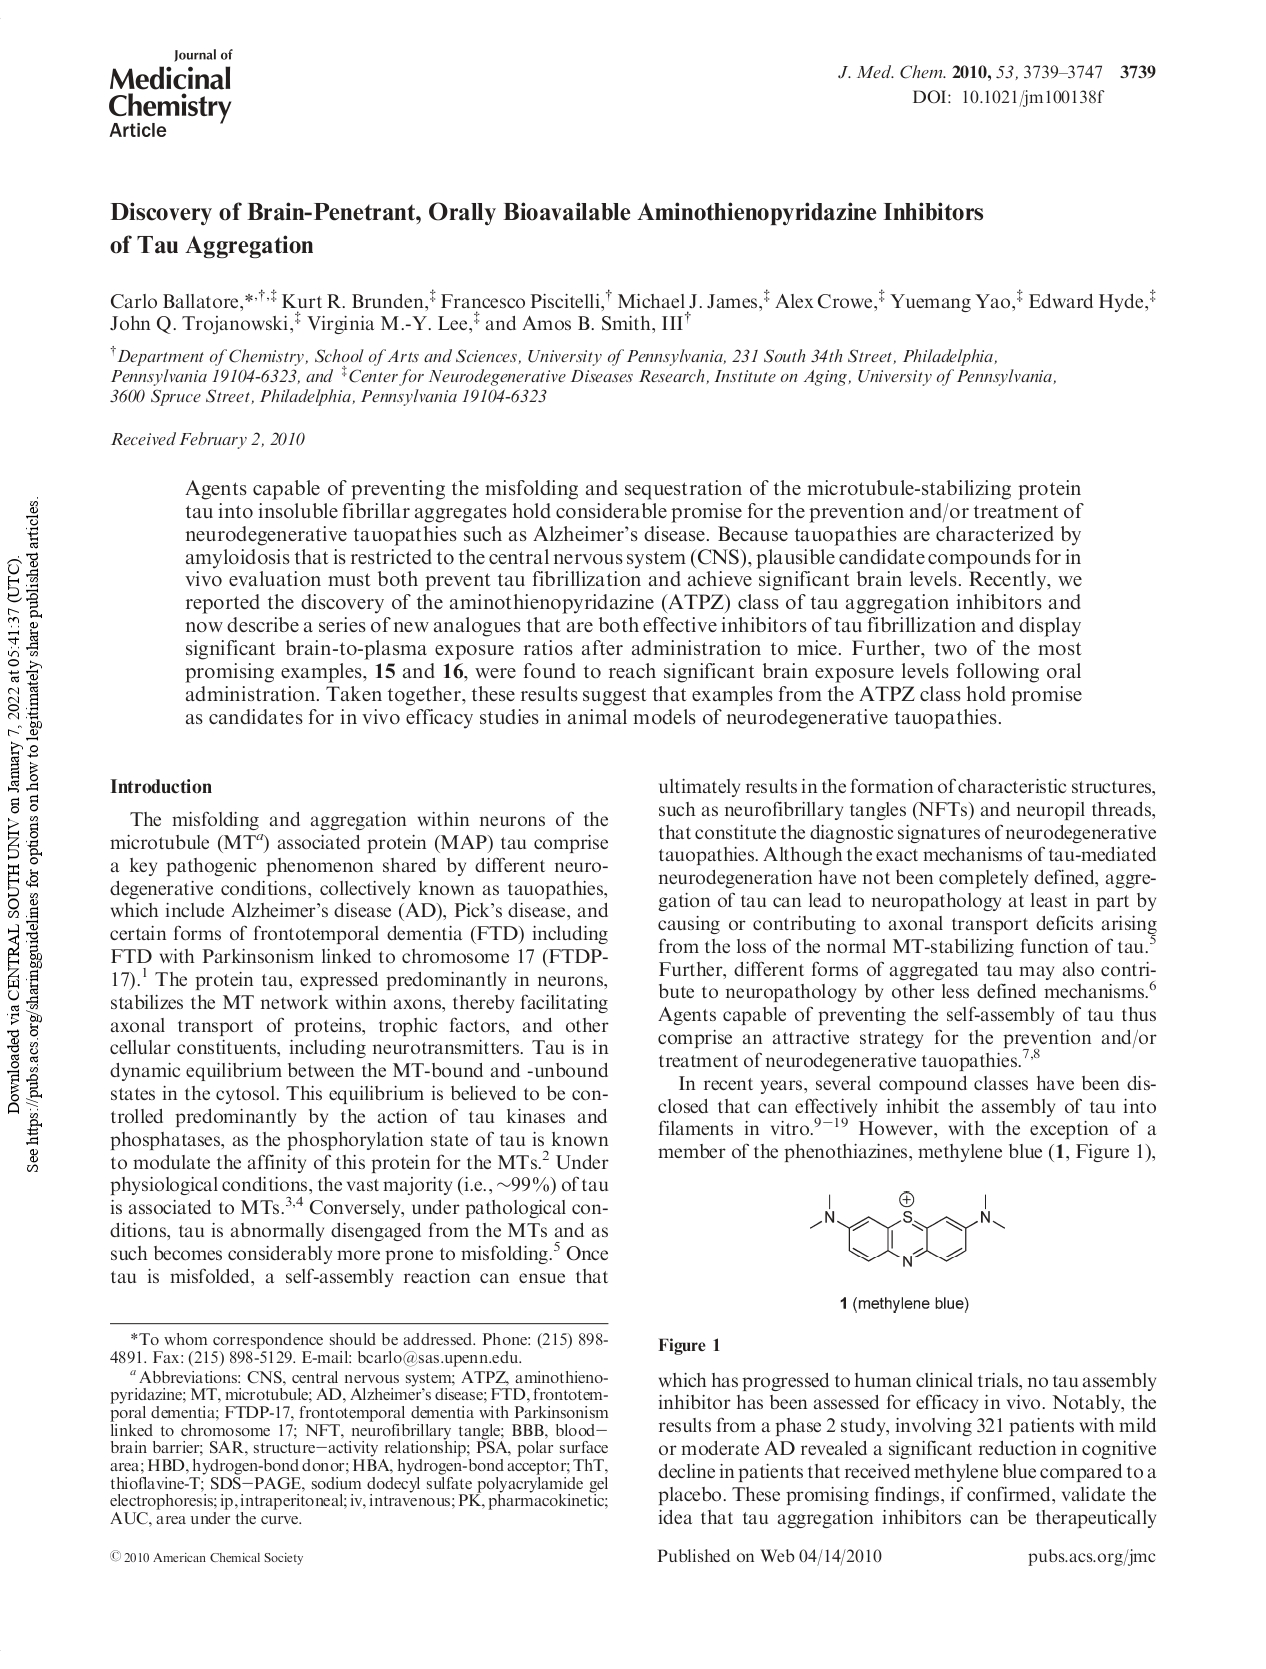exist_molecular: (806, 1184, 1005, 1267)
